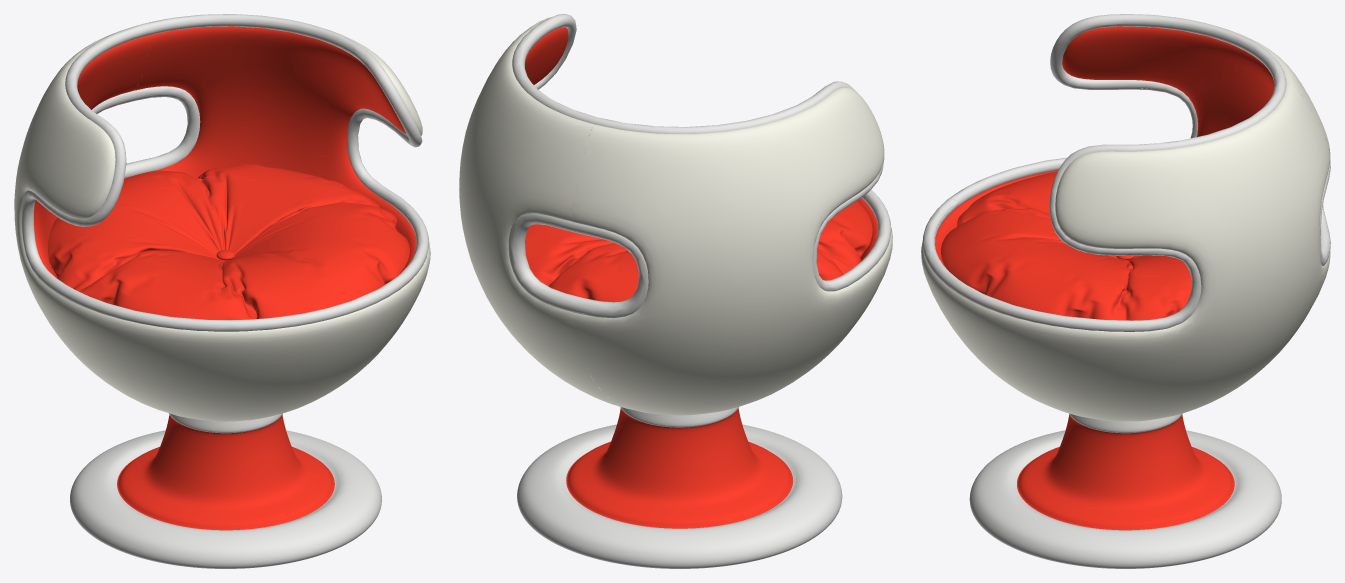
File: chair-21.glb
3 views of the same model, side by side, from view 1: azimuth 30°, elevation 25°; view 2: azimuth 150°, elevation 25°; view 3: azimuth 270°, elevation 25° (orthographic). The views are drawn at different scales.
Parts seen in each view (by area): view 1: Sphere, Sphere.004, Sphere.001, Cylinder, Sphere.002, Cylinder_Leather_0.003, Cylinder_Leather_0.002, Cylinder_Leather_0.001, Sphere.003, Cylinder_Leather_0.004; view 2: Sphere, Sphere.004, Sphere.002, Cylinder_Leather_0.003, Sphere.003, Cylinder, Sphere.001, Cylinder_Leather_0.002; view 3: Sphere, Sphere.004, Sphere.002, Sphere.001, Cylinder, Cylinder_Leather_0.001, Cylinder_Leather_0.004, Cylinder_Leather_0.003, Sphere.003.
Boxes of the visible parts, box(x1,y1,x2,y2) form: Sphere: box(14, 30, 430, 421); Sphere.004: box(70, 413, 381, 568); Sphere.001: box(34, 25, 416, 278); Cylinder: box(61, 216, 409, 319); Sphere.002: box(21, 14, 428, 331); Cylinder_Leather_0.003: box(127, 164, 347, 252); Cylinder_Leather_0.002: box(47, 177, 224, 280); Cylinder_Leather_0.001: box(212, 202, 393, 264); Sphere.003: box(92, 86, 200, 177); Cylinder_Leather_0.004: box(207, 186, 394, 269); Sphere: box(459, 17, 892, 415); Sphere.004: box(517, 407, 842, 568); Sphere.002: box(512, 14, 891, 291); Cylinder_Leather_0.003: box(525, 224, 630, 301); Sphere.003: box(508, 213, 648, 318); Cylinder: box(817, 201, 872, 277); Sphere.001: box(525, 27, 878, 261); Cylinder_Leather_0.002: box(605, 253, 837, 302); Sphere: box(921, 29, 1330, 421); Sphere.004: box(969, 413, 1281, 568); Sphere.002: box(922, 14, 1286, 331); Sphere.001: box(934, 25, 1274, 268); Cylinder: box(941, 171, 1094, 318); Cylinder_Leather_0.001: box(1028, 233, 1131, 320); Cylinder_Leather_0.004: box(1025, 215, 1166, 320); Cylinder_Leather_0.003: box(1129, 255, 1191, 316); Sphere.003: box(1319, 159, 1330, 265).
Bounding box in the file's own units: 4.85 × 5.58 × 4.86.
